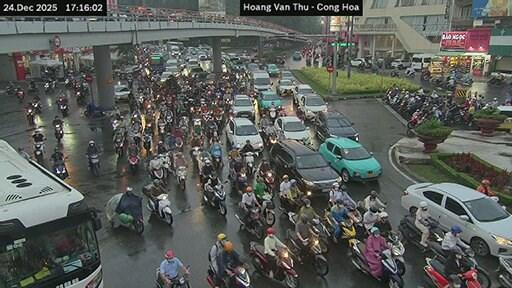motorbike: (250, 242, 297, 286), (423, 257, 480, 287), (105, 193, 143, 233), (376, 248, 403, 286), (464, 247, 489, 287), (301, 234, 326, 274), (397, 211, 422, 248), (234, 207, 262, 238), (309, 217, 332, 252), (147, 193, 172, 224), (349, 239, 371, 274), (387, 233, 405, 274), (204, 183, 226, 215), (258, 193, 275, 225), (227, 265, 251, 287), (338, 216, 355, 246), (230, 167, 246, 193), (499, 256, 511, 287), (150, 162, 166, 184), (285, 229, 300, 252), (428, 242, 445, 261), (428, 219, 442, 242), (259, 169, 274, 190), (189, 145, 201, 169), (323, 211, 335, 234), (86, 153, 98, 175), (83, 103, 103, 116), (169, 274, 189, 287), (406, 112, 423, 127), (159, 152, 170, 175), (53, 161, 67, 179), (243, 152, 253, 175), (176, 166, 185, 189), (211, 152, 223, 169), (128, 154, 138, 174), (115, 136, 124, 156), (54, 124, 63, 143), (156, 268, 165, 287), (207, 269, 217, 286), (486, 77, 505, 85), (35, 142, 42, 163), (131, 129, 140, 145), (26, 107, 34, 124), (157, 121, 165, 138), (143, 134, 150, 153), (6, 81, 16, 94), (288, 211, 297, 225), (58, 102, 67, 116), (268, 107, 277, 121), (457, 77, 472, 85), (44, 81, 54, 93), (32, 99, 41, 112), (76, 90, 85, 103), (16, 89, 24, 102), (26, 84, 37, 93), (176, 136, 182, 151), (64, 76, 71, 88), (390, 71, 399, 76), (406, 72, 413, 77), (186, 266, 188, 268)
